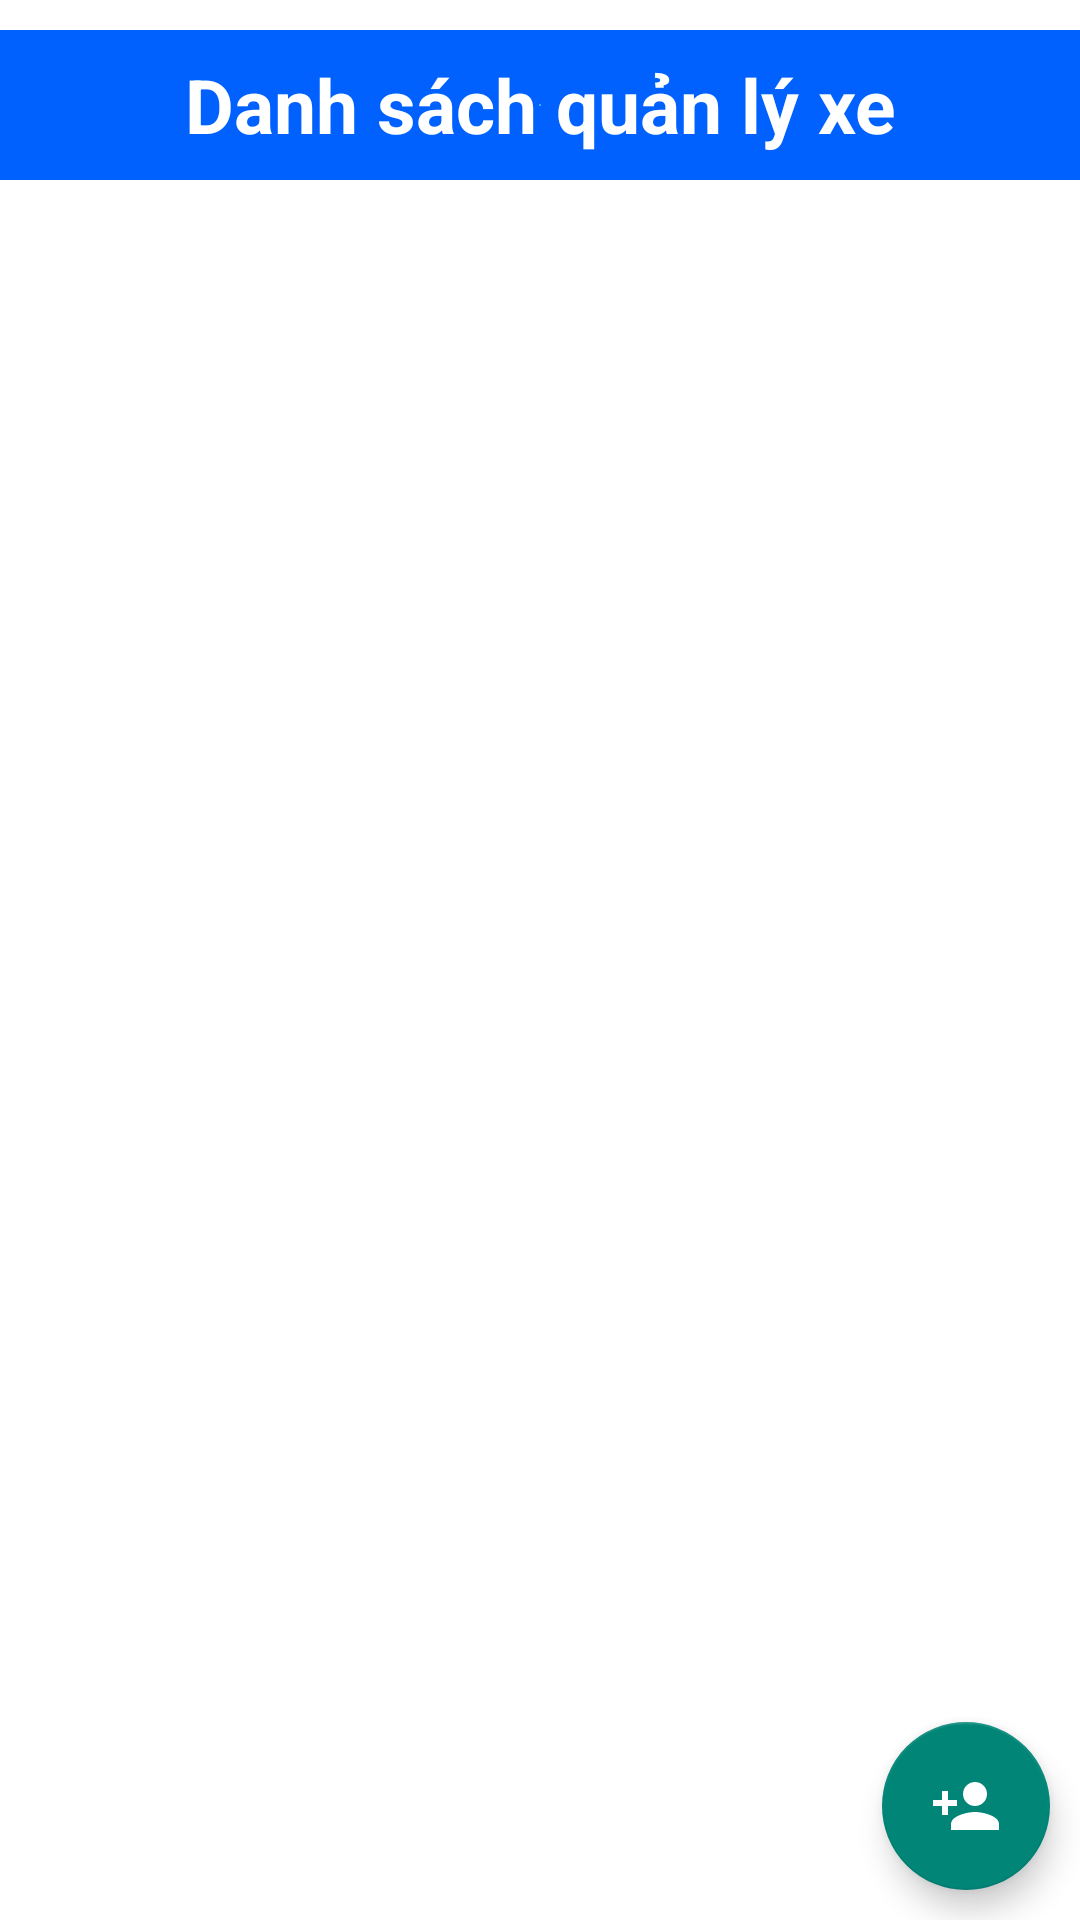

Named icons in this screenshot (1080w x 1920h) and their centers, point (x, y):
person add: point (966, 1806)
